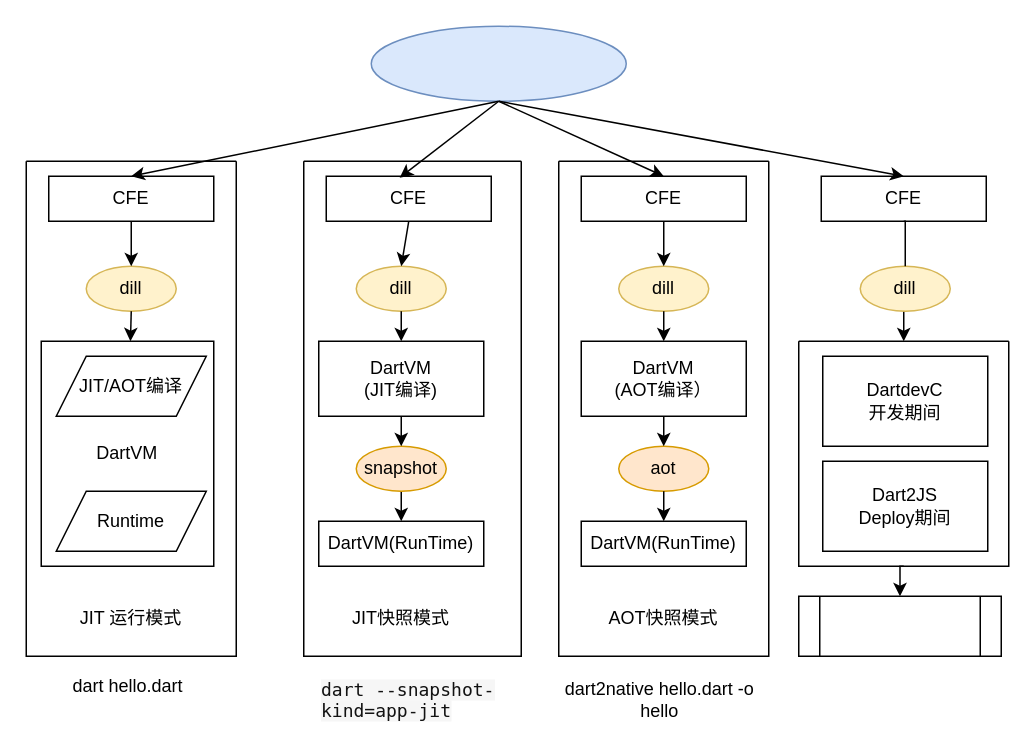
Image size: 1035x750. Some labels were removed from this diagram. Here are the shapes that lost their labels. From the top down, the centre of each, then its label:
point (498, 63): Dart
point (899, 625): Chrome/Safari/Firefox
